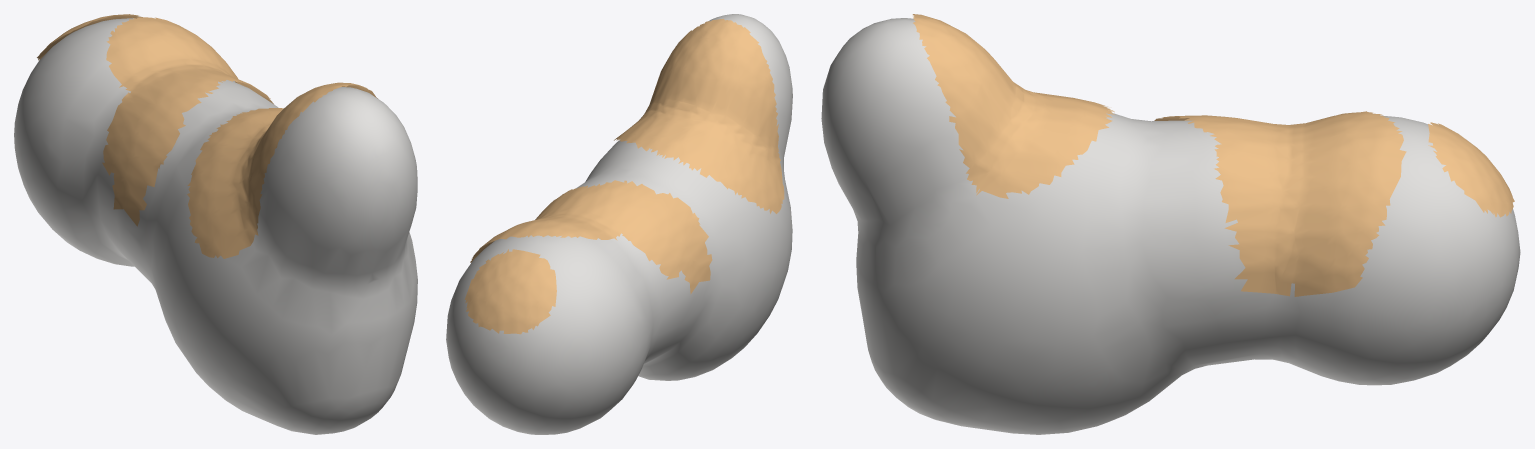
Rendered from ZukzonPatches.fbx.
3 views of the same model, side by side, from view 1: azimuth 30°, elevation 25°; view 2: azimuth 150°, elevation 25°; view 3: azimuth 270°, elevation 25° (orthographic). The views are drawn at different scales.
Visible parts, largest first — view 1: Body, BodyPatches; view 2: Body, BodyPatches; view 3: Body, BodyPatches.
Boxes of the visible parts, <box> form: Body: <box>14,18,417,434</box>; BodyPatches: <box>37,14,377,258</box>; Body: <box>446,14,792,434</box>; BodyPatches: <box>464,18,784,334</box>; Body: <box>821,18,1520,434</box>; BodyPatches: <box>912,14,1514,296</box>.
Size of the model in its own units: 0.5695 by 0.9565 by 1.5.
